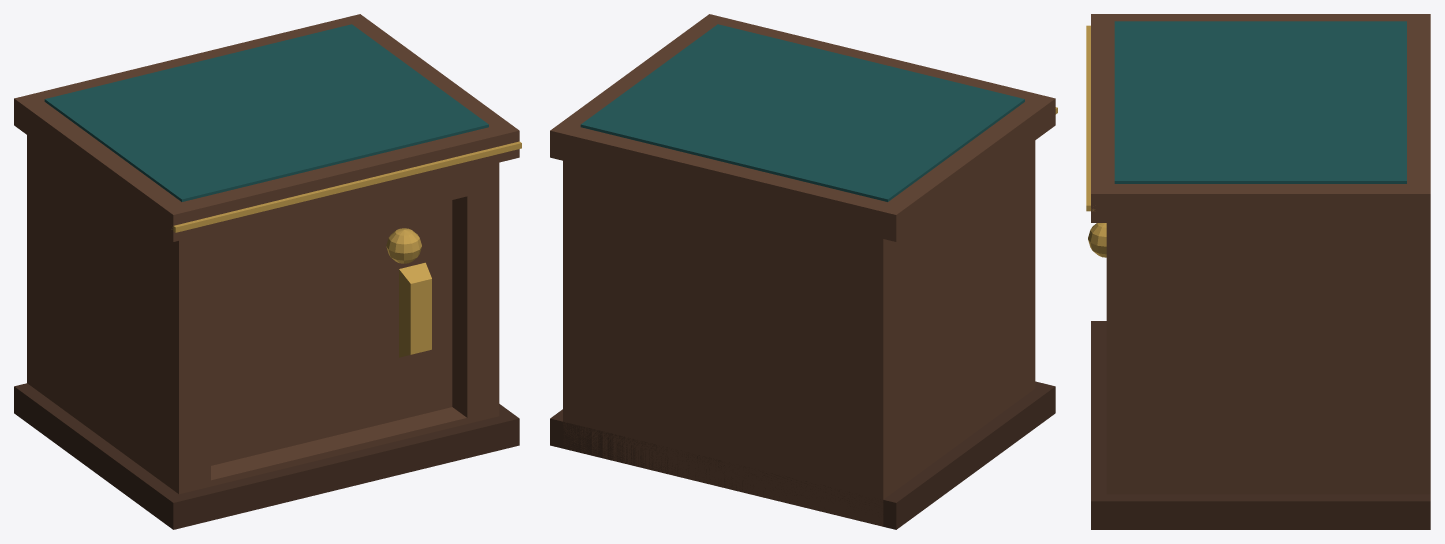
The model's file is cabinetBed.glb.
3 renders of one model, left to right at view 1: azimuth 30°, elevation 25°; view 2: azimuth 150°, elevation 25°; view 3: azimuth 270°, elevation 25°, orthographic. The views are drawn at different scales.
Visible parts, largest first — view 1: cabinetBed(Clone), door; view 2: cabinetBed(Clone); view 3: cabinetBed(Clone).
Boxes of the visible parts, left/top/right/bottom form: cabinetBed(Clone): left=14, top=14, right=521, bottom=529; door: left=211, top=200, right=452, bottom=465; cabinetBed(Clone): left=550, top=14, right=1057, bottom=529; cabinetBed(Clone): left=1086, top=14, right=1430, bottom=529.
Bounding box in the file's own units: 0.266 × 0.2332 × 0.215.
